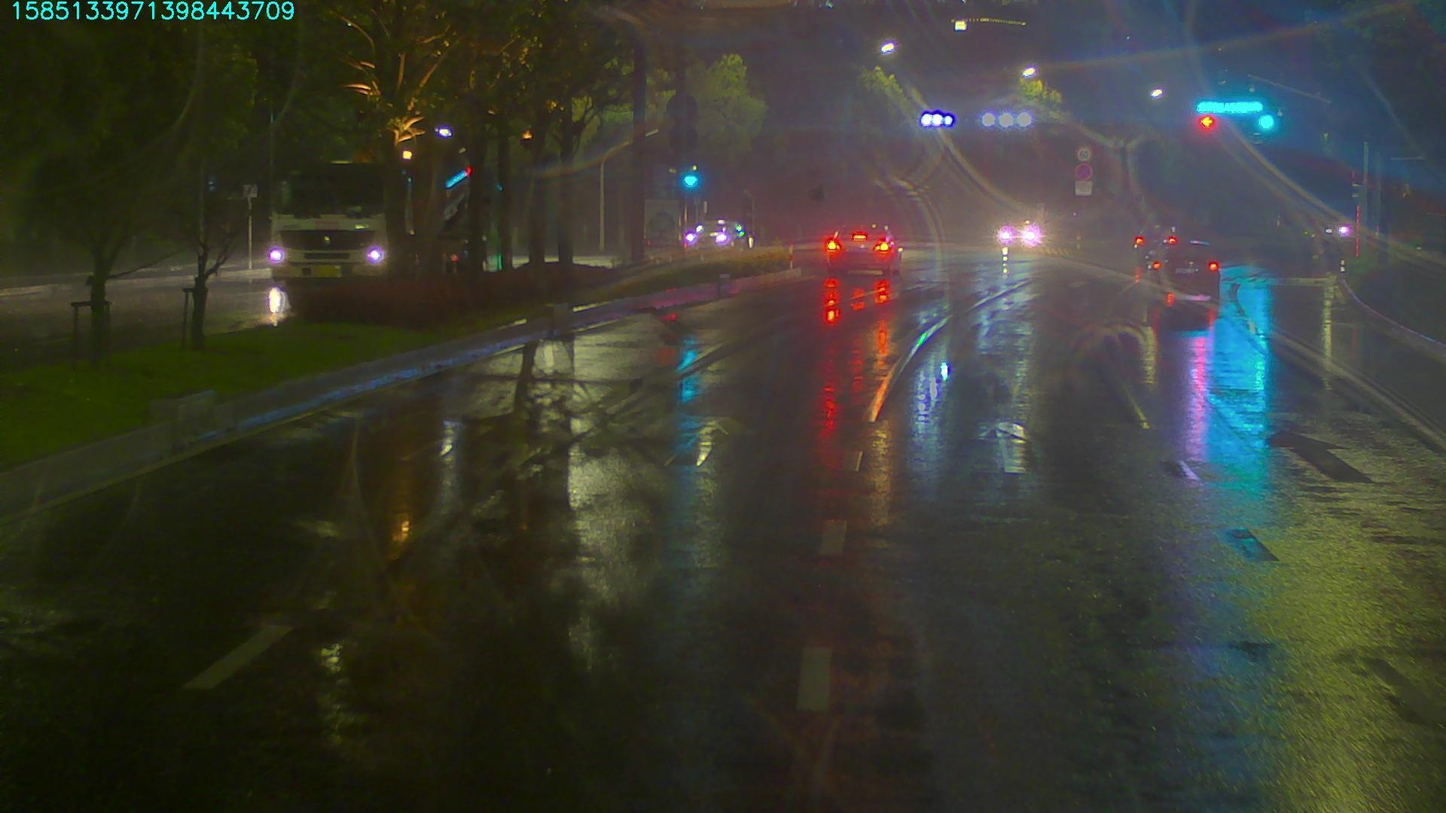green: (1258, 116, 1280, 136)
red: (1197, 113, 1213, 124)
wait_on: (1197, 94, 1265, 111)
